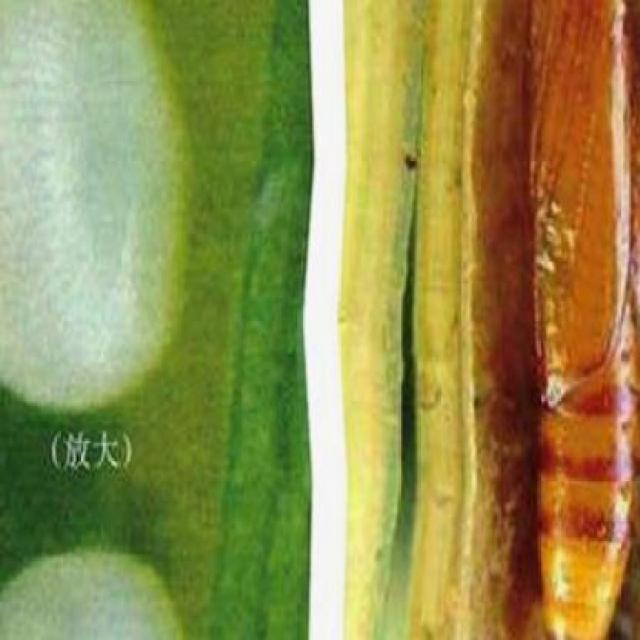whorl-maggot: (508, 0, 637, 640)
